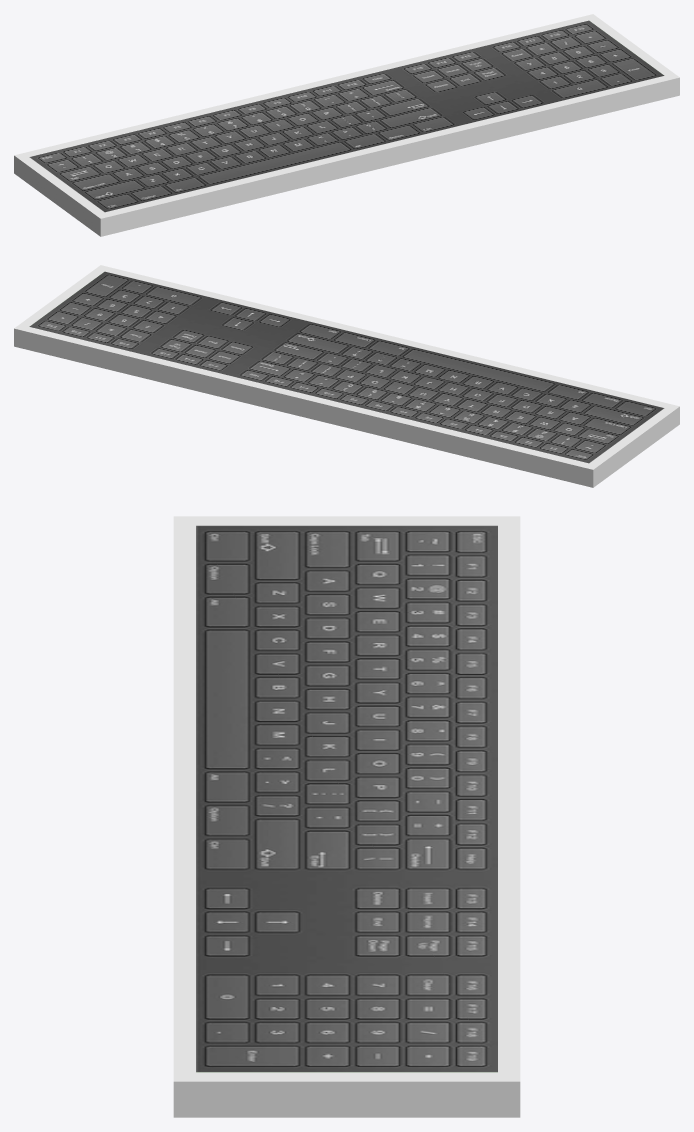
Rendered from keyboard.glb.
3 views of the same model, one above another, from view 1: azimuth 30°, elevation 25°; view 2: azimuth 150°, elevation 25°; view 3: azimuth 270°, elevation 25° (orthographic). The views are drawn at different scales.
Parts seen in each view (by area): view 1: Computer_Keyboard_lambert5_0; view 2: Computer_Keyboard_lambert5_0; view 3: Computer_Keyboard_lambert5_0.
Boxes of the visible parts, x1,y1,x2,y2 form: Computer_Keyboard_lambert5_0: (14,14,679,236); Computer_Keyboard_lambert5_0: (14,265,679,487); Computer_Keyboard_lambert5_0: (173,516,520,1117).
Size of the model in its own units: 0.504 by 0.015 by 0.1307.
1 material, 1 textured.
